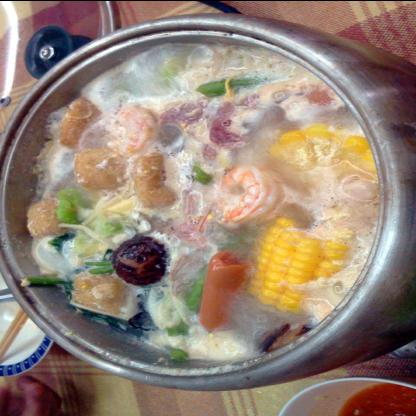Suki: (13, 27, 389, 373)
